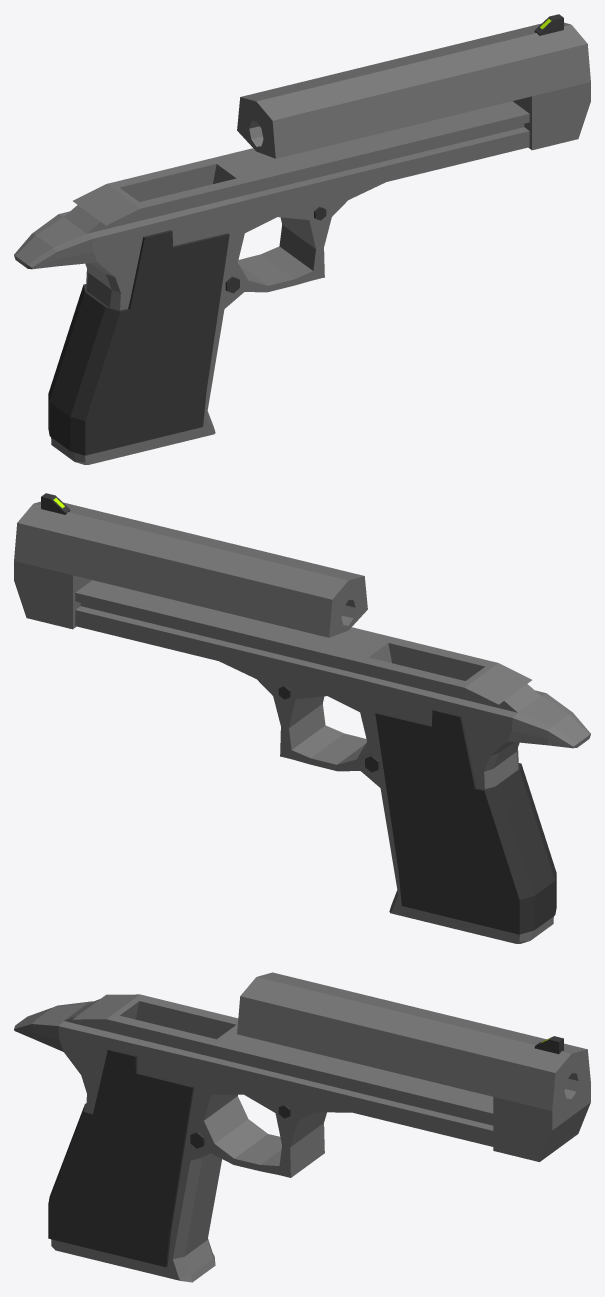
The model's file is SM_Pistols3_01.glb.
3 renders of one model, top to bottom at view 1: azimuth 30°, elevation 25°; view 2: azimuth 150°, elevation 25°; view 3: azimuth 330°, elevation 25°, orthographic.
Visible parts, largest first — view 1: SM_Pistols3_01; view 2: SM_Pistols3_01; view 3: SM_Pistols3_01.
Boxes of the visible parts, <box> form: SM_Pistols3_01: <box>14,14,590,464</box>; SM_Pistols3_01: <box>14,493,590,943</box>; SM_Pistols3_01: <box>14,972,590,1282</box>.
Size of the model in its own units: 0.3445 by 0.1921 by 0.042.
1 material, 1 textured.
